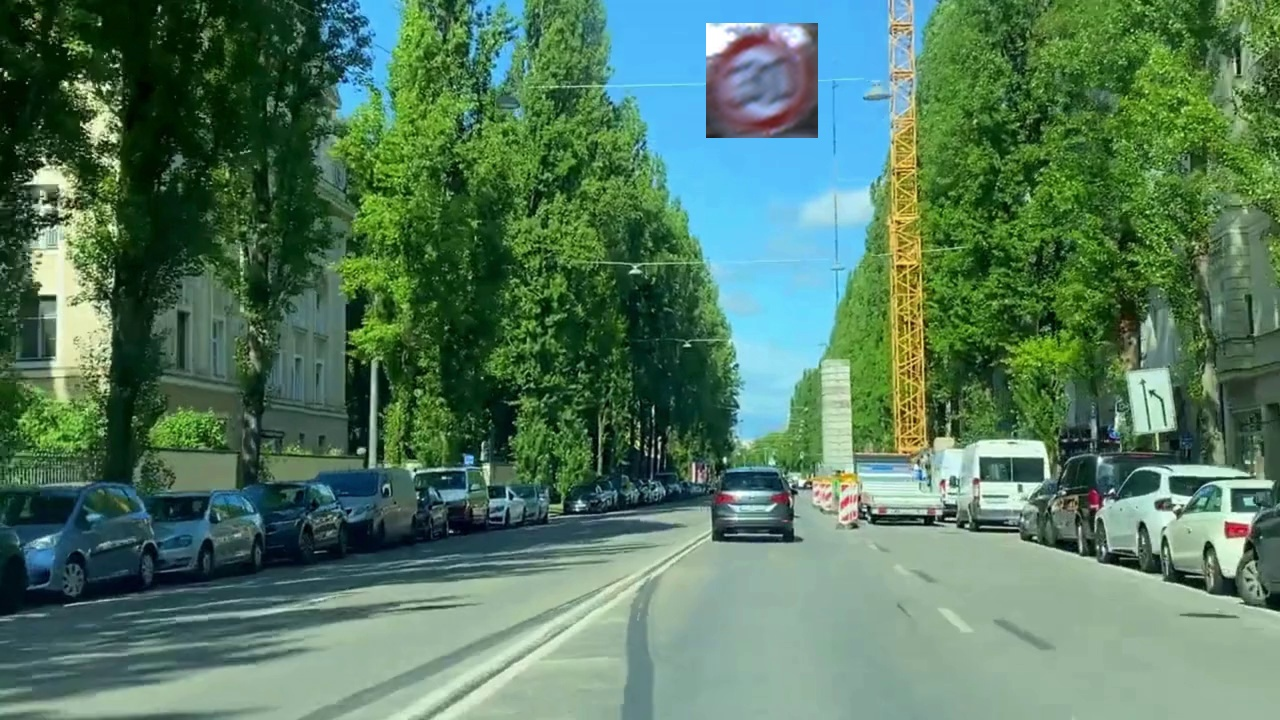Speed 30: (706, 23, 818, 138)
